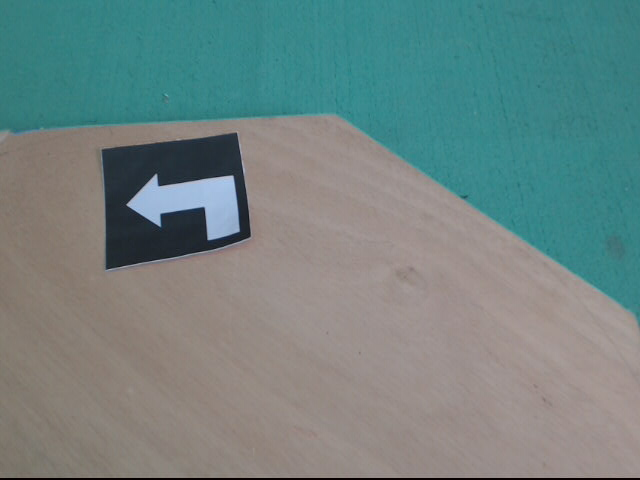left: (99, 132, 254, 270)
